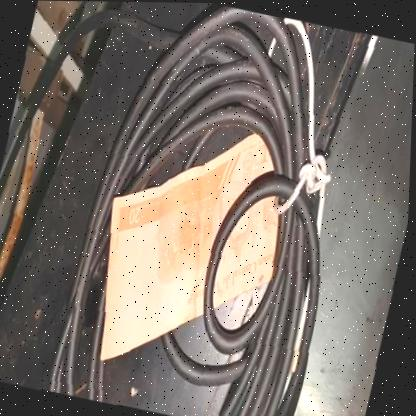twenty-back-vef: (77, 105, 304, 390)
